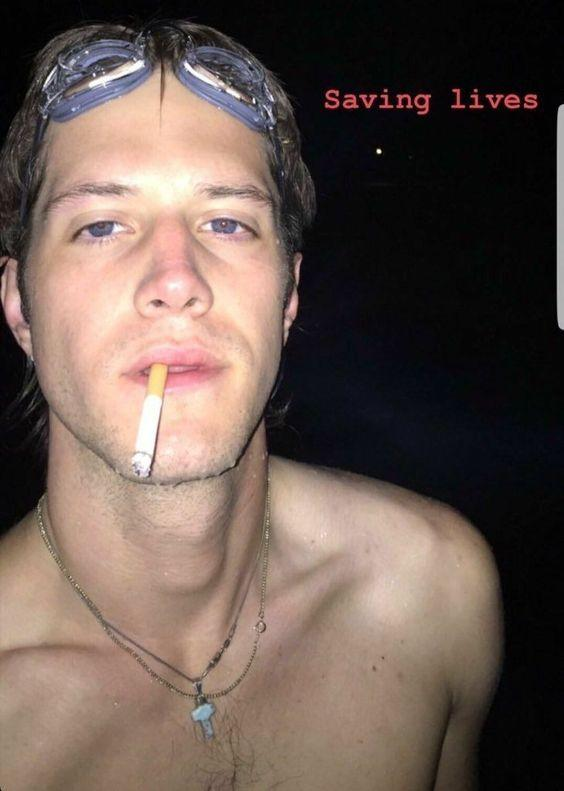cigarette: (131, 362, 169, 478)
